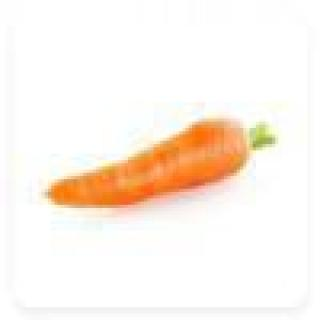Wortel: (24, 88, 277, 251)
